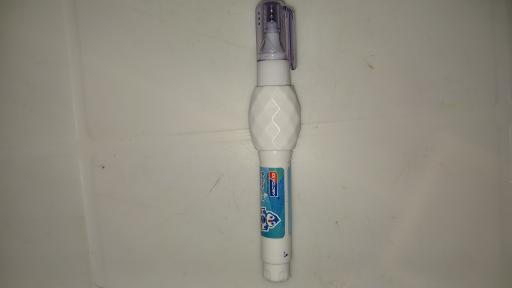Correction pen: (249, 0, 301, 283)
